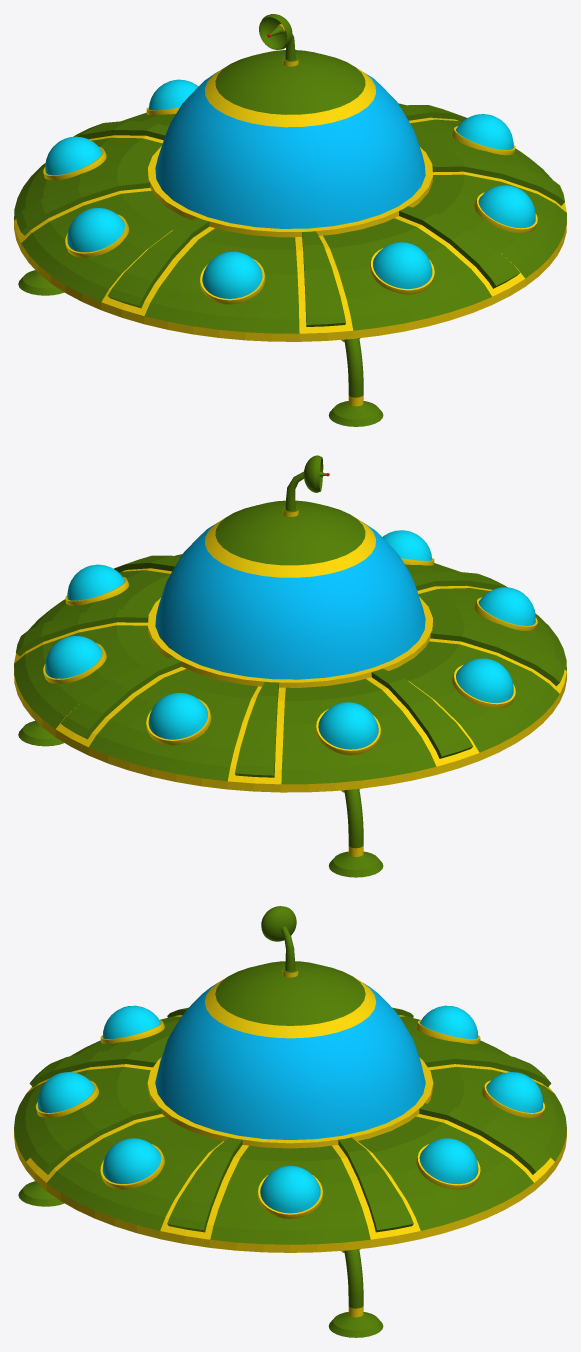
The model's file is retroufo.dae.
3 views of the same model, one above another, from view 1: azimuth 30°, elevation 25°; view 2: azimuth 150°, elevation 25°; view 3: azimuth 270°, elevation 25° (orthographic).
Parts seen in each view (by area): view 1: Cylinder02 (×2), Sphere09 (×3), Sphere03 (×2), Sphere05 (×2), Cylinder04, Sphere01, Sphere07, Sphere08, Sphere02, Sphere06, Sphere24, Cylinder07; view 2: Cylinder02 (×2), Sphere09 (×3), Sphere08 (×2), Sphere06 (×2), Cylinder07, Sphere01, Sphere04, Sphere03, Sphere02, Sphere05, Cylinder10, Sphere24; view 3: Cylinder02 (×2), Sphere09 (×3), Sphere02 (×2), Sphere04, Sphere07, Cylinder10, Sphere05, Sphere06, Sphere03, Sphere08, Sphere24, Cylinder04.
Part boxes in pixels (left/top/right/bottom): Cylinder02 (×2): left=14, top=103, right=566, bottom=341; Sphere09 (×3): left=148, top=50, right=432, bottom=237; Sphere03 (×2): left=200, top=251, right=265, bottom=304; Sphere05 (×2): left=369, top=242, right=434, bottom=294; Cylinder04: left=328, top=338, right=383, bottom=426; Sphere01: left=67, top=208, right=124, bottom=252; Sphere07: left=478, top=185, right=535, bottom=228; Sphere08: left=45, top=136, right=102, bottom=175; Sphere02: left=456, top=114, right=513, bottom=150; Sphere06: left=148, top=79, right=198, bottom=110; Sphere24: left=259, top=14, right=292, bottom=49; Cylinder07: left=18, top=270, right=64, bottom=295; Cylinder02 (×2): left=14, top=554, right=566, bottom=792; Sphere09 (×3): left=148, top=500, right=432, bottom=687; Sphere08 (×2): left=315, top=702, right=380, bottom=755; Sphere06 (×2): left=146, top=693, right=211, bottom=745; Cylinder07: left=329, top=789, right=383, bottom=877; Sphere01: left=456, top=658, right=513, bottom=702; Sphere04: left=45, top=636, right=102, bottom=678; Sphere03: left=478, top=587, right=535, bottom=625; Sphere02: left=67, top=564, right=124, bottom=600; Sphere05: left=382, top=530, right=432, bottom=560; Cylinder10: left=18, top=720, right=63, bottom=746; Sphere24: left=303, top=455, right=323, bottom=492; Cylinder02 (×2): left=14, top=1007, right=566, bottom=1252; Sphere09 (×3): left=147, top=961, right=433, bottom=1148; Sphere02 (×2): left=257, top=1165, right=323, bottom=1218; Sphere04: left=419, top=1138, right=478, bottom=1184; Sphere07: left=102, top=1138, right=161, bottom=1184; Cylinder10: left=328, top=1249, right=383, bottom=1337; Sphere05: left=37, top=1072, right=94, bottom=1112; Sphere06: left=486, top=1072, right=543, bottom=1112; Sphere03: left=102, top=1005, right=160, bottom=1038; Sphere08: left=420, top=1005, right=478, bottom=1038; Sphere24: left=261, top=906, right=296, bottom=941; Cylinder04: left=18, top=1181, right=64, bottom=1206.
Size of the model in its own units: 146 by 89.33 by 146.
